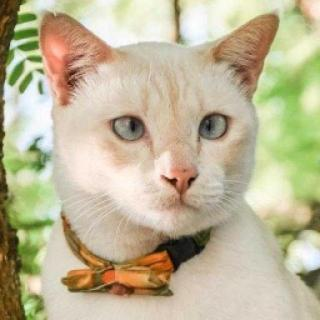cat: (41, 6, 281, 238)
nose: (150, 146, 208, 198)
